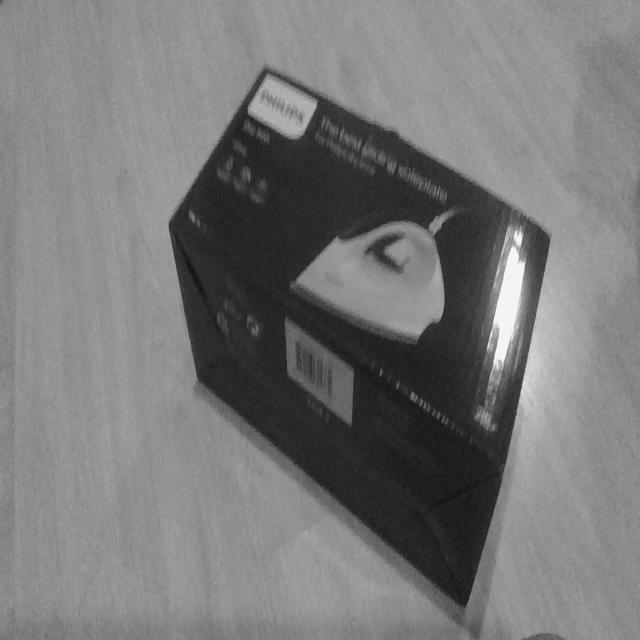IRON: (166, 62, 553, 618)
